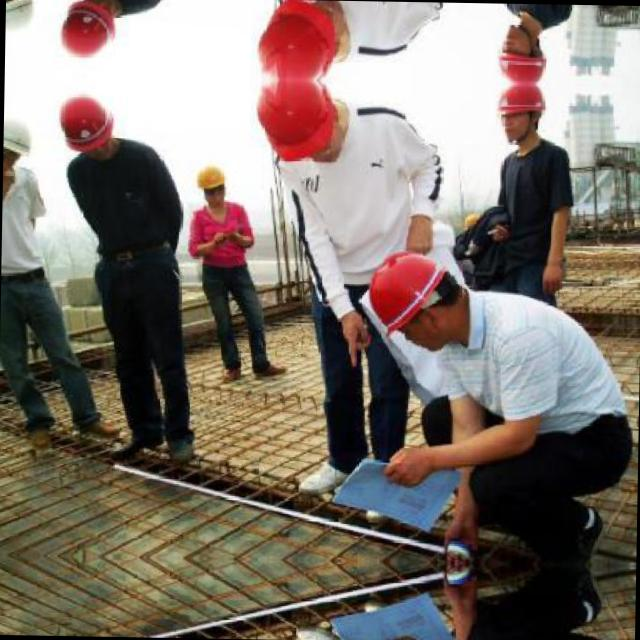helmet: (342, 242, 471, 350), (242, 79, 342, 172), (244, 0, 345, 80), (54, 90, 116, 154), (56, 0, 117, 62), (493, 84, 548, 145), (494, 22, 549, 83), (194, 157, 229, 210), (3, 120, 31, 166), (5, 0, 35, 30)
